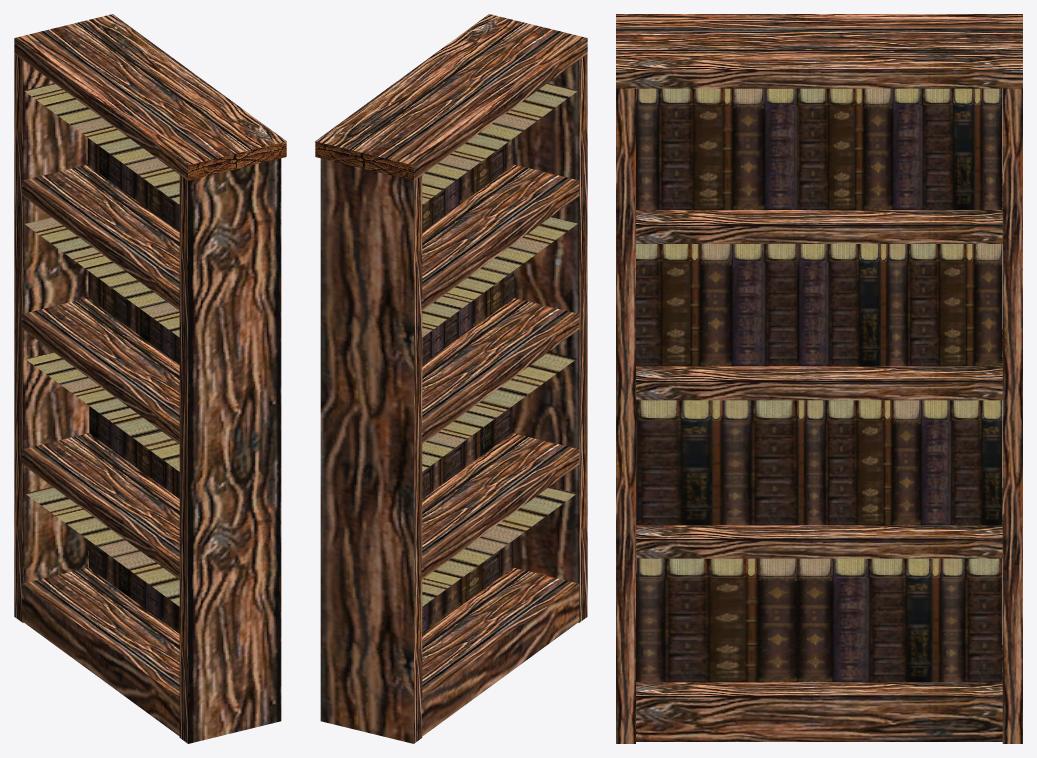
The model's file is INST_LT_BOOKCASE.fbx.
3 renders of one model, left to right at view 1: azimuth 30°, elevation 25°; view 2: azimuth 150°, elevation 25°; view 3: azimuth 270°, elevation 25°, orthographic. The views are drawn at different scales.
Parts seen in each view (by area): view 1: INST_LT_BOOKCASE; view 2: INST_LT_BOOKCASE; view 3: INST_LT_BOOKCASE.
Part boxes in pixels (box(x1,y1,x2,y2)): INST_LT_BOOKCASE: box(14, 14, 286, 743); INST_LT_BOOKCASE: box(315, 14, 587, 743); INST_LT_BOOKCASE: box(616, 14, 1022, 743).
Size of the model in its own units: 3110 by 17432 by 9500.
Materials: 4 (4 with a texture image).
